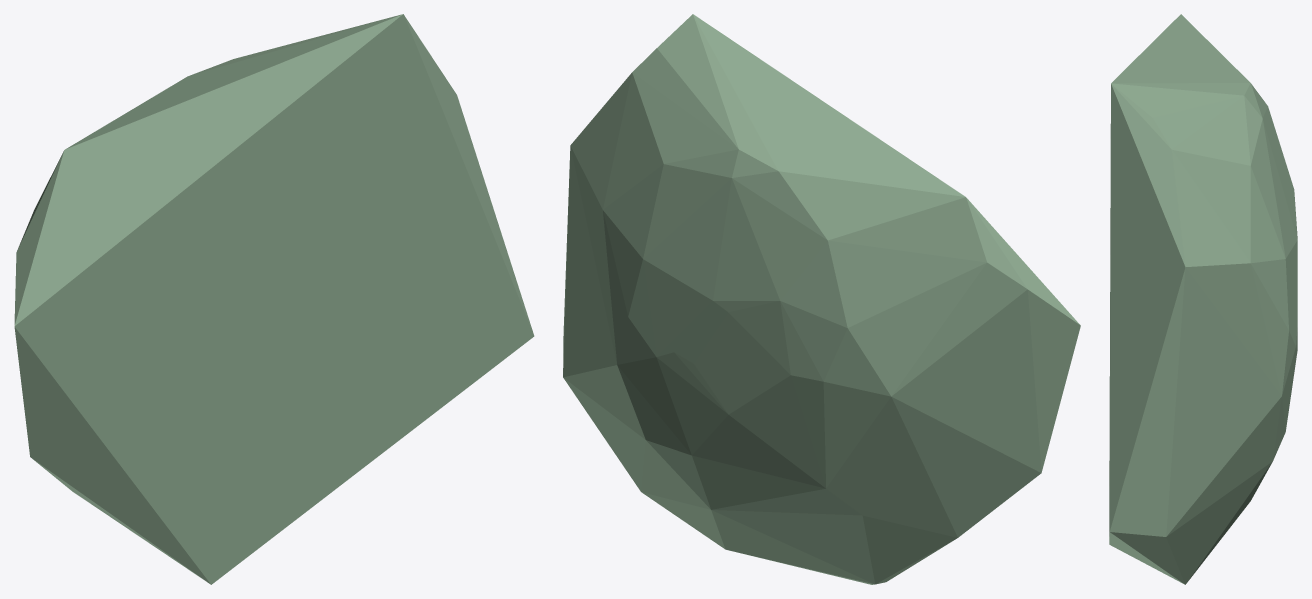
The model's file is kitchenware_bowl_s01.glb.
The picture shows the model from 3 angles, left to right: view 1: azimuth 30°, elevation 25°; view 2: azimuth 150°, elevation 25°; view 3: azimuth 270°, elevation 25°; orthographic projection. The views are drawn at different scales.
Parts seen in each view (by area): view 1: geometry_0; view 2: geometry_0; view 3: geometry_0.
Boxes of the visible parts, x1,y1,x2,y2 form: geometry_0: [14, 14, 534, 584]; geometry_0: [563, 14, 1080, 584]; geometry_0: [1109, 14, 1297, 584].
Bounding box in the file's own units: 0.4622 × 0.445 × 0.1353.
